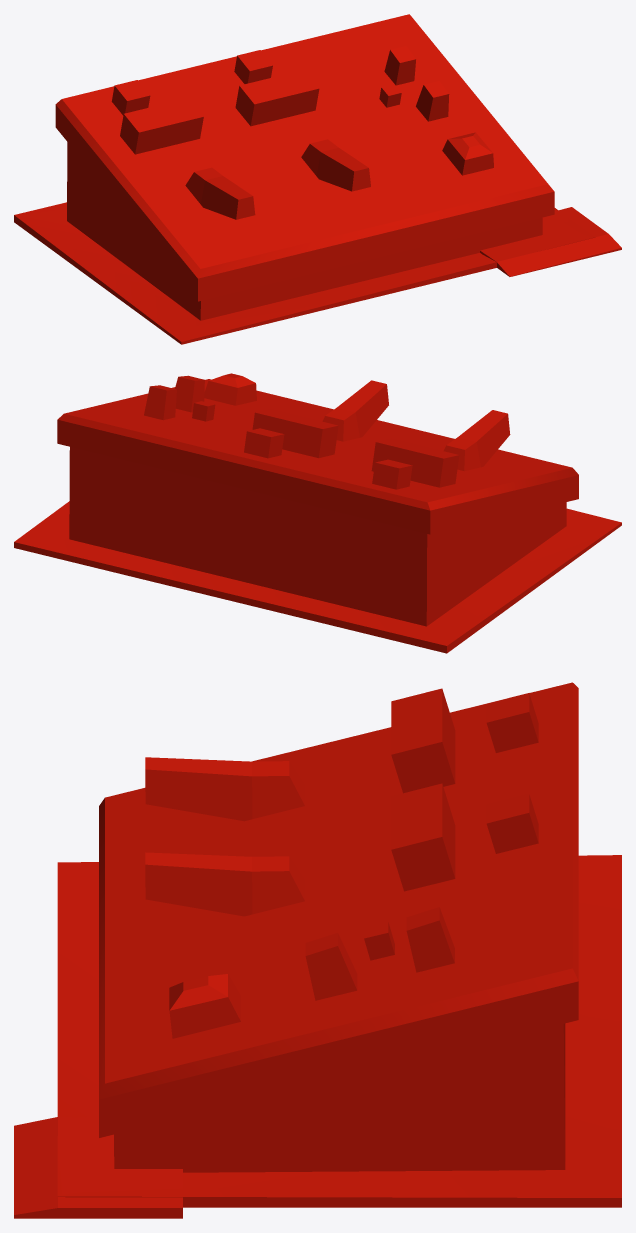
The model's file is UCX_panel_switches.fbx.
3 views of the same model, one above another, from view 1: azimuth 30°, elevation 25°; view 2: azimuth 150°, elevation 25°; view 3: azimuth 270°, elevation 25° (orthographic). The views are drawn at different scales.
Visible parts, largest first — view 1: UCX_panel_switches; view 2: UCX_panel_switches; view 3: UCX_panel_switches.
Boxes of the visible parts, bbox=[...] form: UCX_panel_switches: bbox=[14, 14, 621, 344]; UCX_panel_switches: bbox=[14, 373, 621, 653]; UCX_panel_switches: bbox=[14, 682, 621, 1218].
Bounding box in the file's own units: 0.6611 × 0.2056 × 0.4832.
